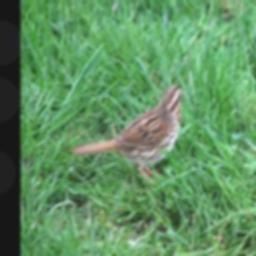Sparrow: (70, 78, 187, 183)
